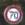Speed Limit -70-: (0, 1, 24, 24)
